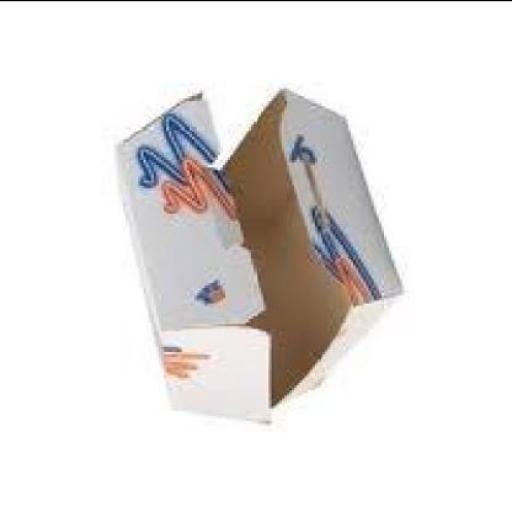cardboard: (108, 85, 402, 417)
